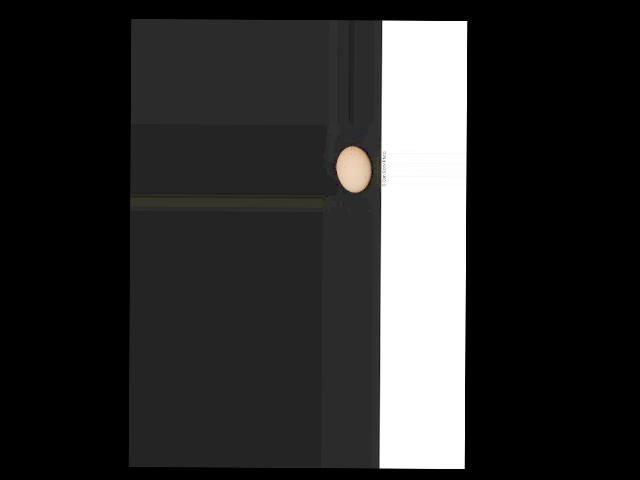egg: (336, 146, 372, 192)
